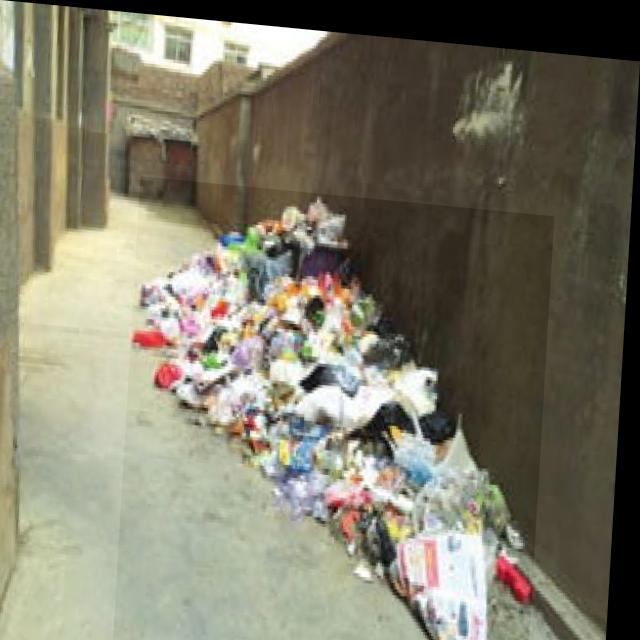garbage: (121, 173, 557, 640)
